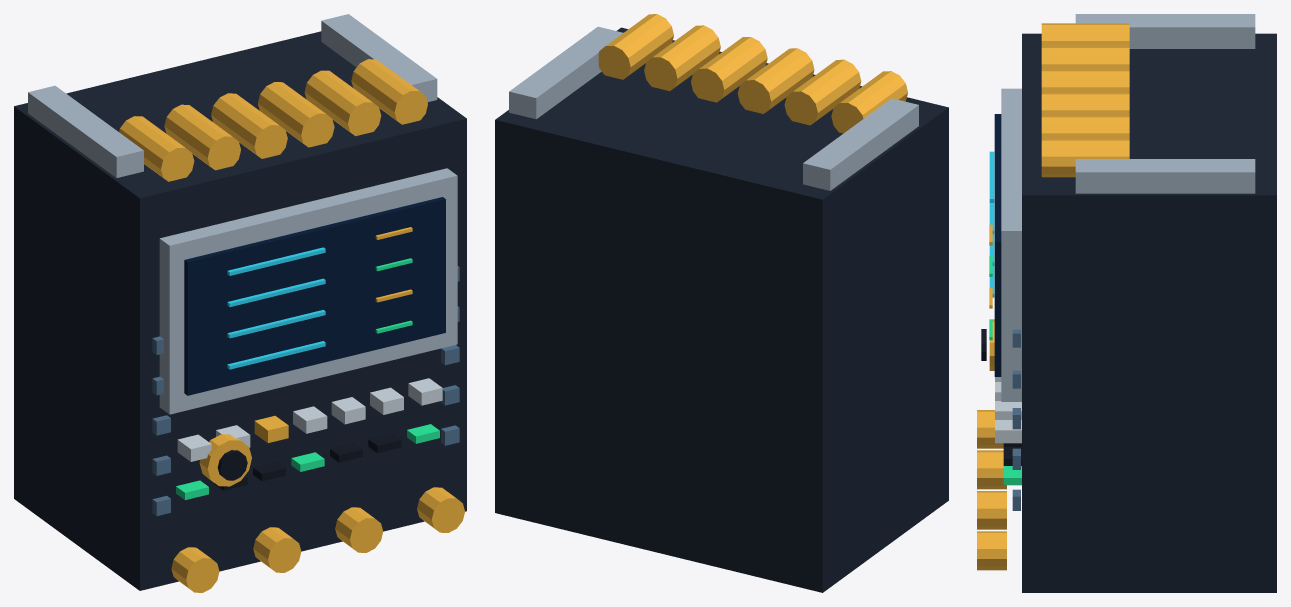
Rendered from 34_L85_PrecisionThrusterCalibrationFixture.fbx.
3 views of the same model, side by side, from view 1: azimuth 30°, elevation 25°; view 2: azimuth 150°, elevation 25°; view 3: azimuth 270°, elevation 25° (orthographic).
Visible parts, largest first — view 1: L85_PrecisionThrusterCalibrationFixture, L85_PrecisionThrusterCalibrationFixture_Part_0009, L85_PrecisionThrusterCalibrationFixture_Part_0010, L85_PrecisionThrusterCalibrationFixture_Part_0011; view 2: L85_PrecisionThrusterCalibrationFixture, L85_PrecisionThrusterCalibrationFixture_Part_0009; view 3: L85_PrecisionThrusterCalibrationFixture, L85_PrecisionThrusterCalibrationFixture_Part_0009.
Part boxes in pixels (<box>): L85_PrecisionThrusterCalibrationFixture: <box>14,14,466,592</box>; L85_PrecisionThrusterCalibrationFixture_Part_0009: <box>119,59,427,181</box>; L85_PrecisionThrusterCalibrationFixture_Part_0010: <box>199,434,251,486</box>; L85_PrecisionThrusterCalibrationFixture_Part_0011: <box>217,450,247,480</box>; L85_PrecisionThrusterCalibrationFixture: <box>495,26,948,592</box>; L85_PrecisionThrusterCalibrationFixture_Part_0009: <box>598,14,907,133</box>; L85_PrecisionThrusterCalibrationFixture: <box>977,14,1276,592</box>; L85_PrecisionThrusterCalibrationFixture_Part_0009: <box>1041,23,1129,177</box>.
Size of the model in its own units: 95.88 by 119 by 75.2.
